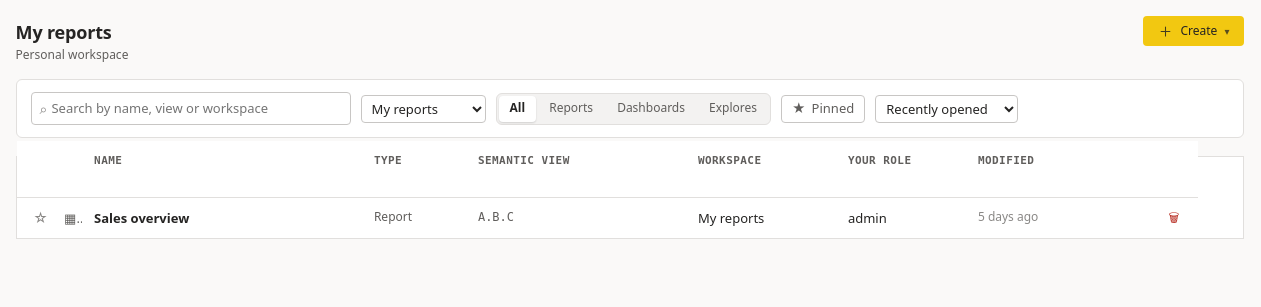
Test case: WorkspacePage › shows an error and keeps the confirmation open when delete fails
Expected: the link "Sales overview" is shown, [94,209,189,227]
What coordinates should you click on to do the following:
click the button named "delete Sales overview"
I would click on:
 (1174, 218)
Its box is [1162,206,1186,230].
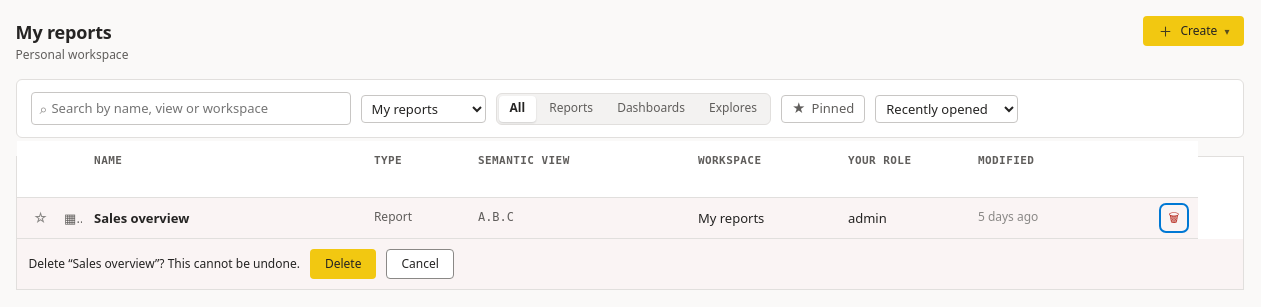
What coordinates should you click on to do the following:
click the button "Delete"
I would click on:
 (343, 264)
Its box is [310,249,376,280].
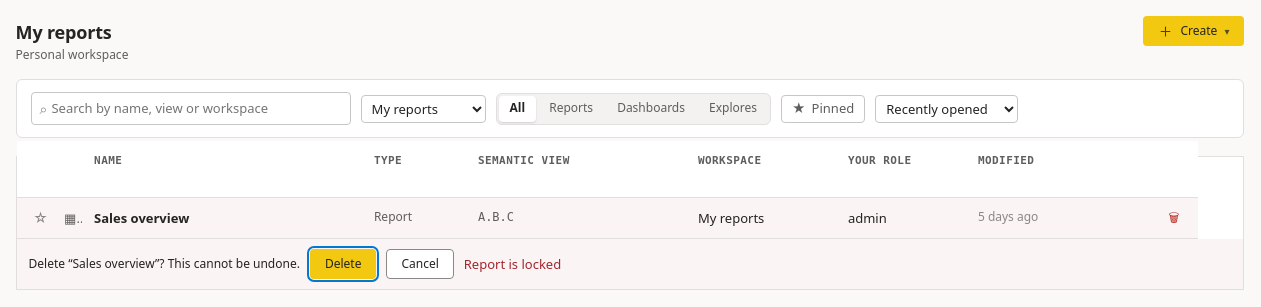
Now the element named "confirm delete" is shown, box [29,249,561,280]
Now the message reads "Report is locked", box [464,255,561,273]
